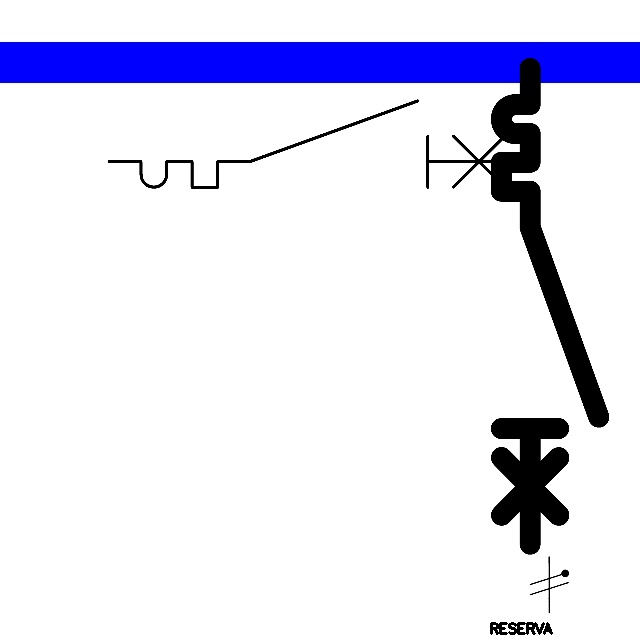interruptor_termomagnetico: (489, 56, 611, 556), (98, 90, 541, 198)
